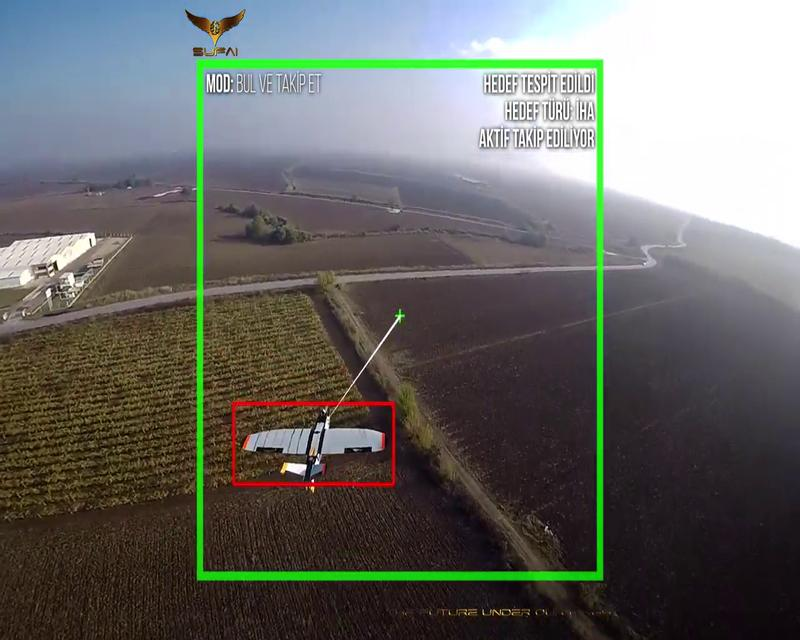UAV: (241, 404, 386, 492)
